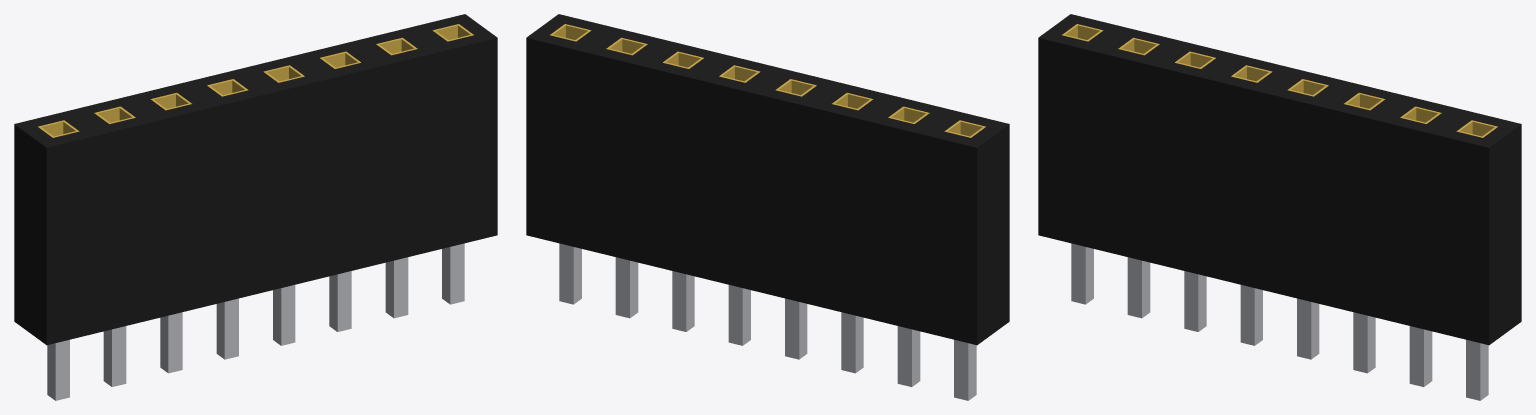
File: socket-strip-1x8.glb
3 renders of one model, left to right at view 1: azimuth 30°, elevation 25°; view 2: azimuth 150°, elevation 25°; view 3: azimuth 330°, elevation 25°, orthographic.
Visible parts, largest first — view 1: object 1, tail-7, tail-2, tail-8, tail-5, tail-3, tail-1, tail-4, tail-6, socket-1, socket-3, socket-5 (+5 smaller); view 2: object 1, tail-7, tail-2, tail-8, tail-5, tail-3, tail-1, tail-4, tail-6, socket-1, socket-3, socket-5 (+5 smaller); view 3: object 1, tail-2, tail-7, tail-1, tail-4, tail-6, tail-3, tail-5, tail-8, socket-1, socket-2, socket-4 (+5 smaller).
Part boxes in pixels (x1,y1,x2,y2): object 1: [14, 14, 497, 345]; tail-7: [385, 257, 408, 318]; tail-2: [103, 326, 126, 386]; tail-8: [442, 243, 464, 304]; tail-5: [273, 285, 295, 345]; tail-3: [160, 312, 182, 373]; tail-1: [47, 339, 69, 400]; tail-4: [216, 298, 238, 359]; tail-6: [329, 271, 351, 331]; socket-1: [38, 120, 79, 137]; socket-3: [150, 93, 191, 110]; socket-5: [263, 65, 304, 82]; object 1: [526, 14, 1009, 345]; tail-7: [615, 257, 638, 318]; tail-2: [897, 326, 920, 386]; tail-8: [559, 243, 581, 304]; tail-5: [728, 285, 750, 345]; tail-3: [841, 312, 863, 373]; tail-1: [954, 339, 976, 400]; tail-4: [785, 298, 807, 359]; tail-6: [672, 271, 694, 331]; socket-1: [944, 120, 985, 137]; socket-3: [832, 93, 873, 110]; socket-5: [719, 65, 760, 82]; object 1: [1038, 14, 1521, 345]; tail-2: [1127, 257, 1150, 318]; tail-7: [1409, 326, 1432, 386]; tail-1: [1071, 243, 1093, 304]; tail-4: [1240, 285, 1262, 345]; tail-6: [1353, 312, 1375, 373]; tail-3: [1184, 271, 1206, 331]; tail-5: [1297, 298, 1319, 359]; tail-8: [1466, 339, 1488, 400]; socket-1: [1062, 24, 1103, 41]; socket-2: [1118, 37, 1159, 55]; socket-4: [1231, 65, 1272, 82].
Bounding box in the file's own units: 0.0203 × 0.0115 × 0.00254.
